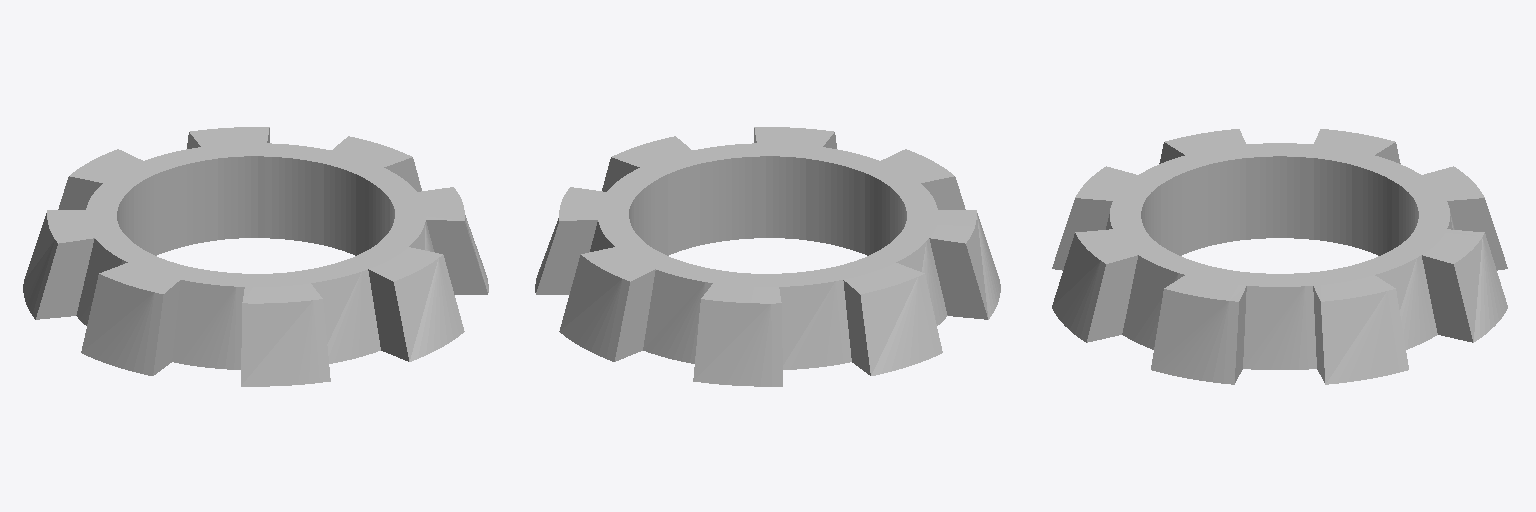
File: Gears.obj
3 renders of one model, left to right at view 1: azimuth 30°, elevation 25°; view 2: azimuth 150°, elevation 25°; view 3: azimuth 270°, elevation 25°, orthographic.
Parts seen in each view (by area): view 1: Cylinder.002; view 2: Cylinder.002; view 3: Cylinder.002.
Boxes of the visible parts, x1,y1,x2,y2 form: Cylinder.002: [23, 127, 488, 386]; Cylinder.002: [535, 127, 1000, 386]; Cylinder.002: [1052, 129, 1507, 384].
Size of the model in its own units: 1.96 by 0.3876 by 1.96.